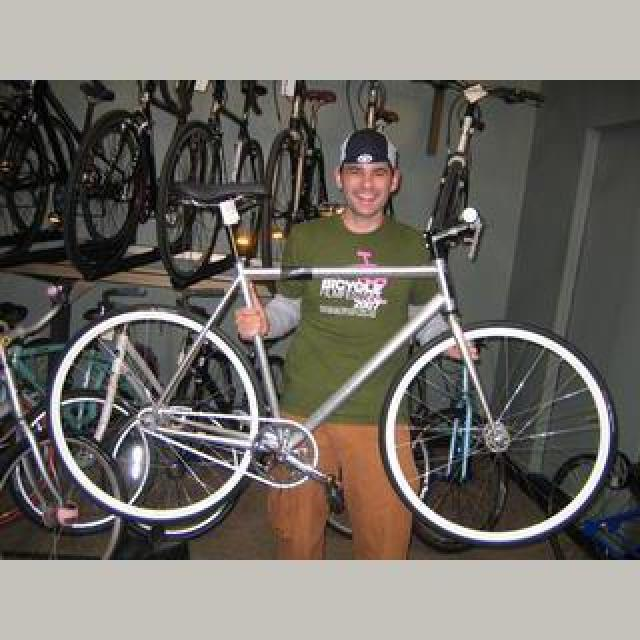Person: (72, 204, 598, 554), (0, 282, 116, 548), (56, 82, 192, 280), (156, 82, 270, 288)
